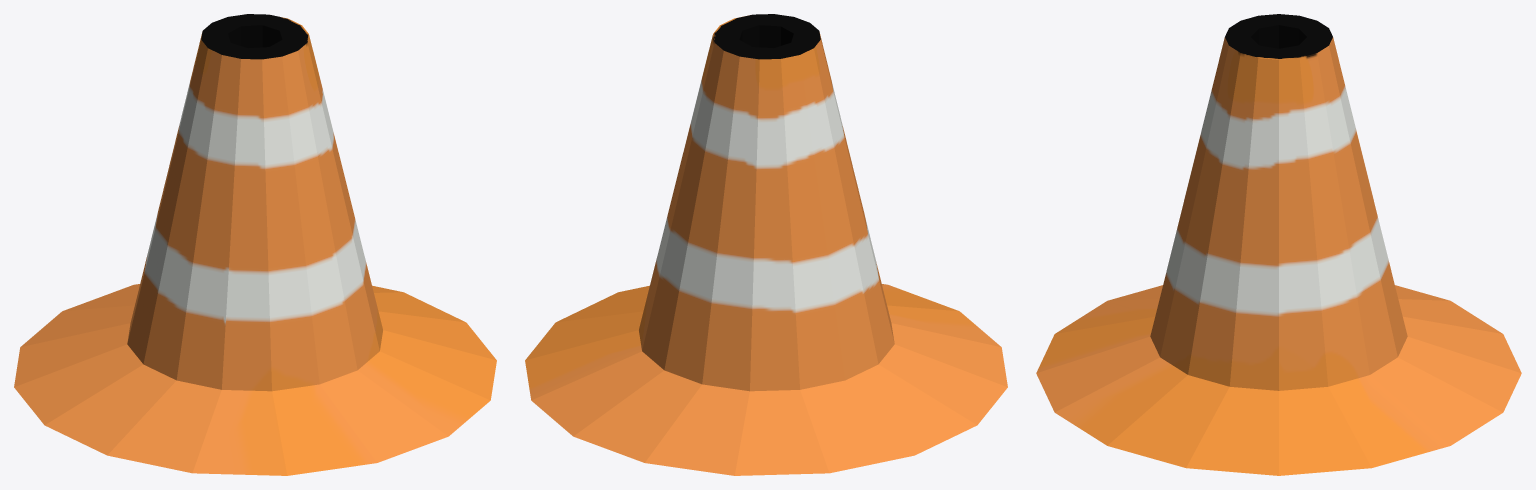
File: Scono.glb
The picture shows the model from 3 angles, left to right: view 1: azimuth 30°, elevation 25°; view 2: azimuth 150°, elevation 25°; view 3: azimuth 270°, elevation 25°; orthographic projection.
Parts seen in each view (by area): view 1: Cube; view 2: Cube; view 3: Cube.
Part boxes in pixels (x1,y1,x2,y2): Cube: [14, 14, 496, 475]; Cube: [525, 14, 1007, 475]; Cube: [1036, 14, 1521, 475].
Bounding box in the file's own units: 0.9212 × 0.7037 × 0.9212.
Materials: 1 (1 with a texture image).
